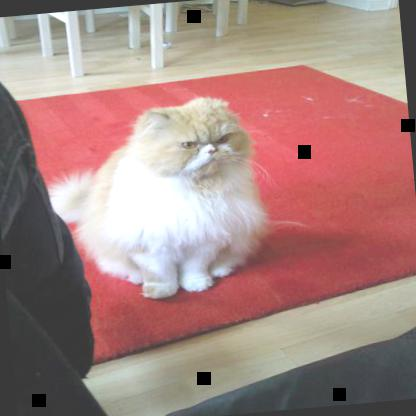cat: (40, 95, 272, 308)
